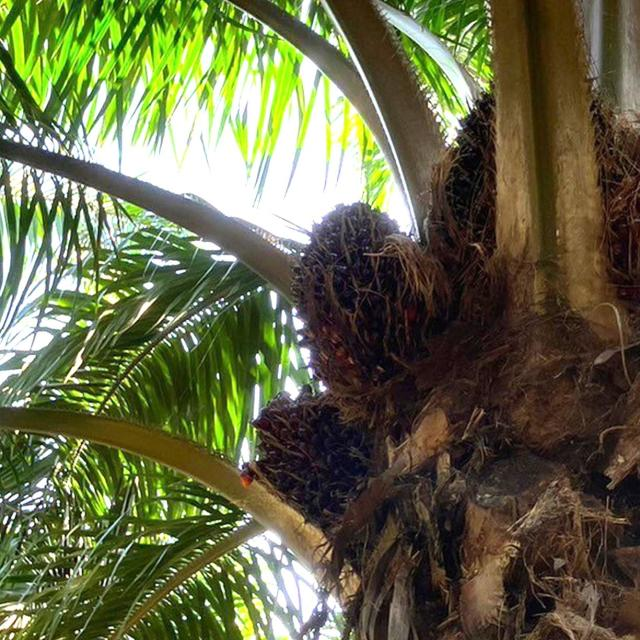ripe: (294, 202, 432, 382)
